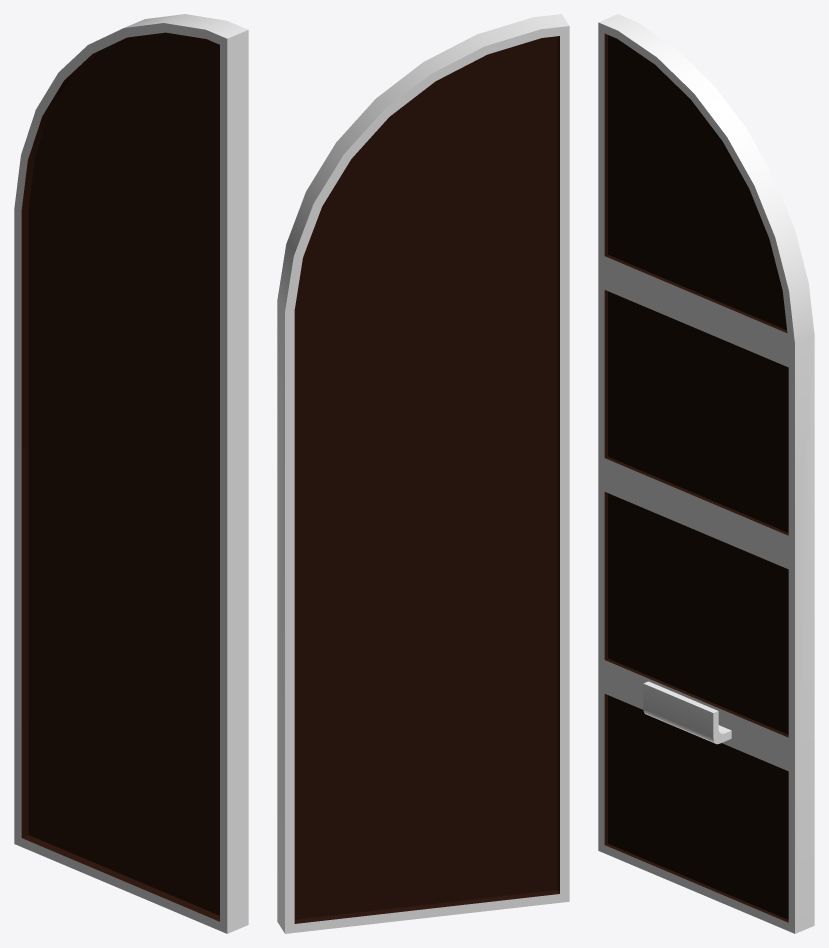
File: FBX_Portes.FBX
3 renders of one model, left to right at view 1: azimuth 90°, elevation 25°; view 2: azimuth 150°, elevation 25°; view 3: azimuth 270°, elevation 25°, orthographic. The views are drawn at different scales.
Parts seen in each view (by area): view 1: Line153; view 2: Line153; view 3: Line153.
Part boxes in pixels (x1=…): Line153: x1=14, y1=14, x2=248, y2=933; Line153: x1=277, y1=14, x2=569, y2=933; Line153: x1=598, y1=14, x2=814, y2=933.
Size of the model in its own units: 117 by 117 by 492.
